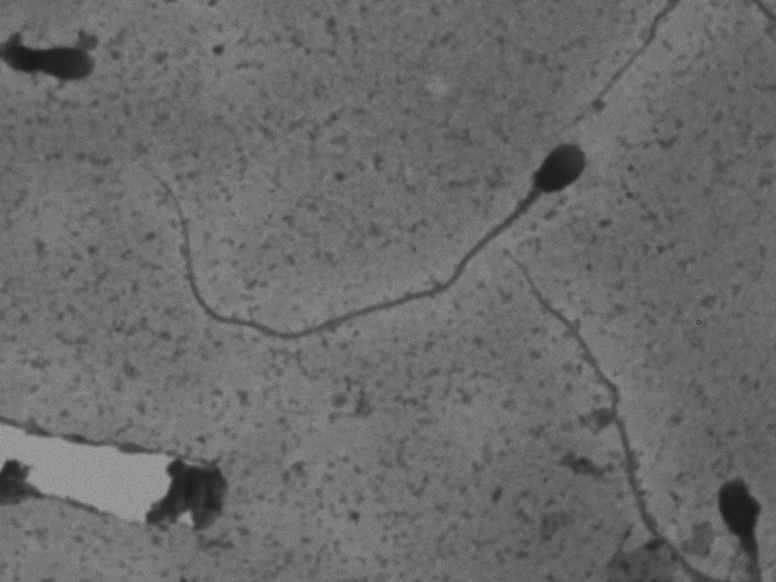Normal: (139, 113, 599, 353)
